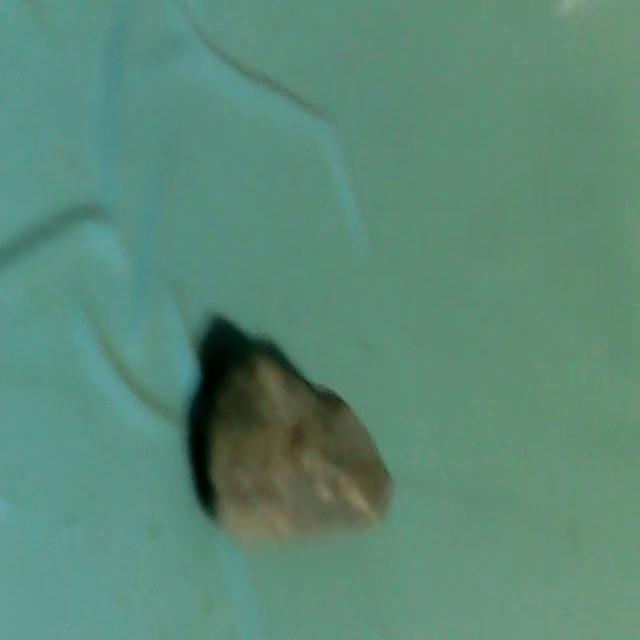rock: (195, 332, 402, 554)
